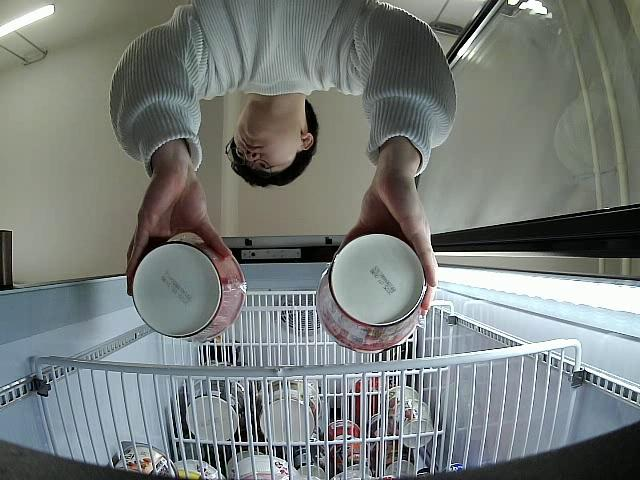00_hand: (333, 152, 438, 313), (123, 163, 230, 297)
01_shinRamen_L: (315, 233, 427, 350), (133, 236, 247, 343)
